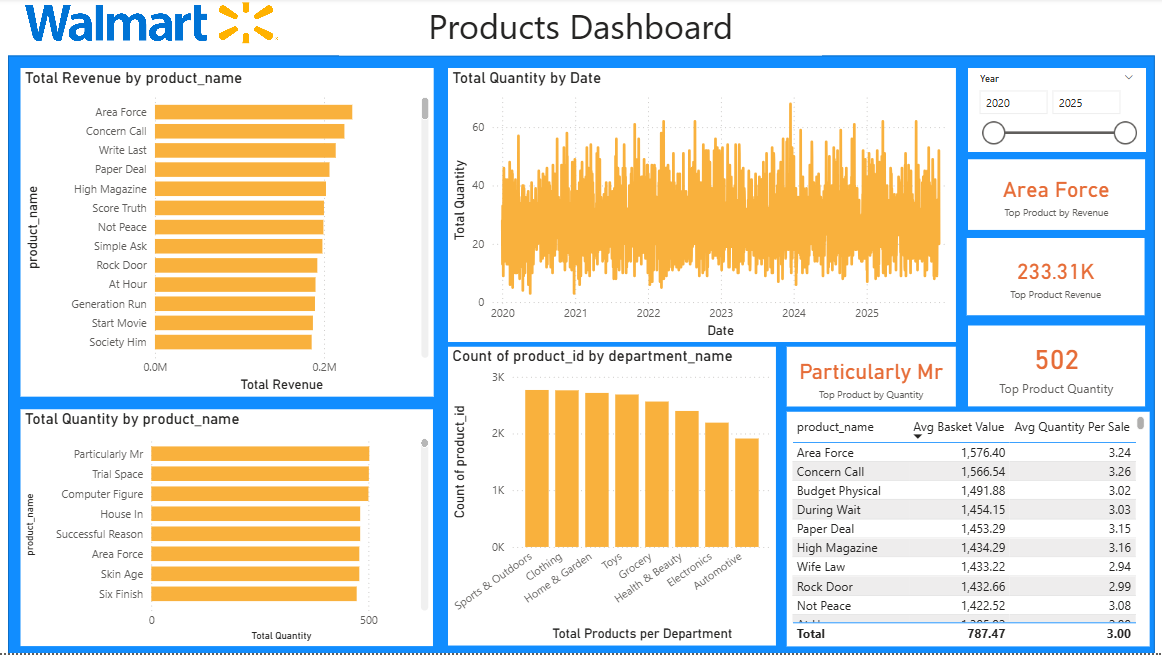

The page's visual inventory and layout, read from the dashboard file:
{"tool":"powerbi","page":{"name":"Products","canvas":[1280,720],"ordinal":2},"visuals":[{"type":"shape","box":[11.2,63.4,1258.9,656.8],"z":0},{"type":"image","box":[24.9,0,288.6,54.7],"z":1000},{"type":"textbox","box":[374.4,0,529.9,63.4],"z":2000},{"type":"clusteredBarChart","fields":{"Category":["FactSales.product_name"],"Y":["FactSales.Total Revenue"]},"box":[24.4,76.7,453.3,361.1],"z":3000},{"type":"clusteredBarChart","fields":{"Category":["FactSales.product_name"],"Y":["FactSales.Total Quantity"]},"box":[24.9,451.6,452.8,260],"z":4000},{"type":"slicer","fields":{"Values":["DimDate.Year"]},"box":[1064.8,77.1,194.1,92.1],"z":5000},{"type":"tableEx","fields":{"Values":["FactSales.product_name","FactSales.Avg Basket Value","FactSales.Avg Quantity Per Sale"]},"box":[865.8,454,398.1,257.5],"z":6000},{"type":"clusteredColumnChart","fields":{"Category":["FactSales.department_name"],"Y":["CountNonNull(FactSales.product_id)"]},"box":[493.3,383.3,360,327.8],"z":7000},{"type":"lineChart","fields":{"Category":["DimDate.Date"],"Y":["FactSales.Total Quantity"]},"box":[493.9,77.1,557.3,301],"z":8000},{"type":"card","fields":{"Values":["FactSales.Top Product Revenue"]},"box":[1063.3,263.3,195.6,84.4],"z":9000},{"type":"card","fields":{"Values":["FactSales.Top Product Quantity"]},"box":[1064.4,360,194.4,88.9],"z":10000},{"type":"card","fields":{"Values":["FactSales.Top Product by Revenue"]},"box":[1064.4,176.7,194.4,77.8],"z":11000},{"type":"card","fields":{"Values":["FactSales.Top Product by Quantity"]},"box":[865.6,383.3,185.6,65.6],"z":12000}]}

Visuals, with their boxes in screenshot pixels (x1, y1, x2, y2), scaled from the page's 1280x720 canvas onto the 1162x663 screenshot:
shape: locate(10, 58, 1153, 662)
image: locate(23, 0, 285, 50)
textbox: locate(340, 0, 821, 58)
clusteredBarChart - FactSales.product_name x FactSales.Total Revenue: locate(22, 71, 434, 403)
clusteredBarChart - FactSales.product_name x FactSales.Total Quantity: locate(23, 416, 434, 655)
slicer - DimDate.Year: locate(967, 71, 1143, 156)
tableEx - FactSales.product_name x FactSales.Avg Basket Value: locate(786, 418, 1147, 655)
clusteredColumnChart - FactSales.department_name x CountNonNull(FactSales.product_id): locate(448, 353, 775, 655)
lineChart - DimDate.Date x FactSales.Total Quantity: locate(448, 71, 954, 348)
card - FactSales.Top Product Revenue: locate(965, 242, 1143, 320)
card - FactSales.Top Product Quantity: locate(966, 332, 1143, 413)
card - FactSales.Top Product by Revenue: locate(966, 163, 1143, 234)
card - FactSales.Top Product by Quantity: locate(786, 353, 954, 413)
